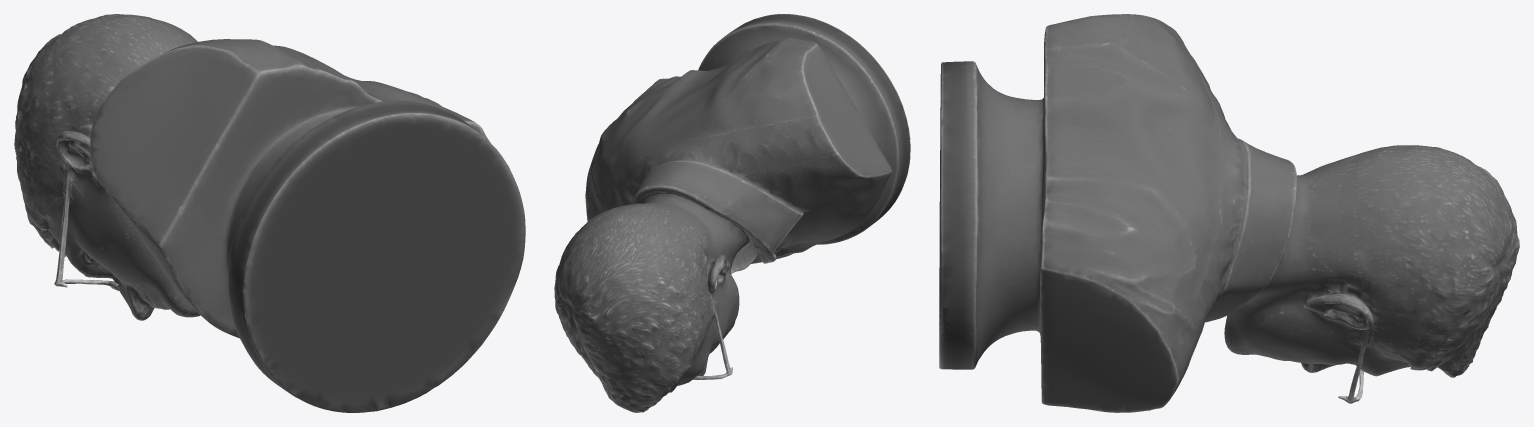
File: snow.obj
3 views of the same model, side by side, from view 1: azimuth 30°, elevation 25°; view 2: azimuth 150°, elevation 25°; view 3: azimuth 270°, elevation 25° (orthographic). The views are drawn at different scales.
Visible parts, largest first — view 1: Volume1; view 2: Volume1; view 3: Volume1.
Part boxes in pixels (x1,y1,x2,y2): Volume1: [14, 14, 525, 412]; Volume1: [554, 14, 910, 412]; Volume1: [939, 14, 1519, 412].
Bounding box in the file's own units: 5.51 × 5.2 × 7.99.
